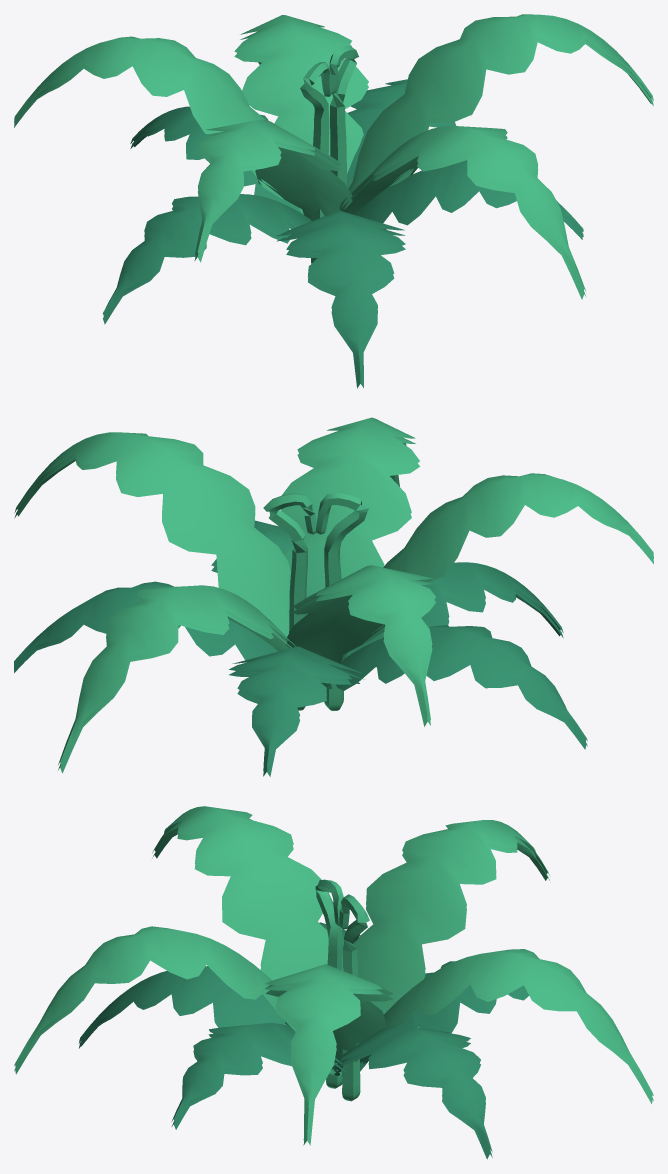
File: prop_fern.glb
3 renders of one model, top to bottom at view 1: azimuth 30°, elevation 25°; view 2: azimuth 150°, elevation 25°; view 3: azimuth 270°, elevation 25°, orthographic. The views are drawn at different scales.
Parts seen in each view (by area): view 1: prop_fern; view 2: prop_fern; view 3: prop_fern.
Part boxes in pixels (x1,y1,x2,y2): prop_fern: (14, 14, 653, 388); prop_fern: (14, 417, 653, 776); prop_fern: (14, 806, 653, 1159).
Bounding box in the file's own units: 1.11 × 0.4223 × 1.14.
